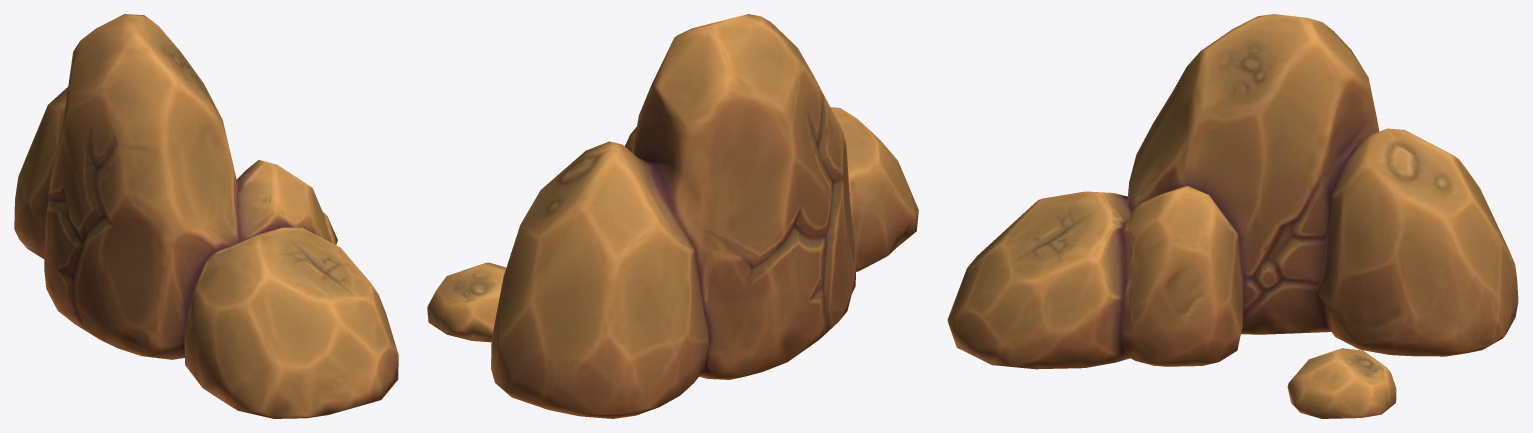
The model's file is desert-rocks.glb.
The picture shows the model from 3 angles, left to right: view 1: azimuth 30°, elevation 25°; view 2: azimuth 150°, elevation 25°; view 3: azimuth 270°, elevation 25°; orthographic projection. The views are drawn at different scales.
Parts seen in each view (by area): view 1: TCE_Rocks_v04_LP:Group11816; view 2: TCE_Rocks_v04_LP:Group11816; view 3: TCE_Rocks_v04_LP:Group11816.
Part boxes in pixels (x1=…): TCE_Rocks_v04_LP:Group11816: x1=14, y1=14, x2=398, y2=418; TCE_Rocks_v04_LP:Group11816: x1=427, y1=14, x2=918, y2=418; TCE_Rocks_v04_LP:Group11816: x1=947, y1=14, x2=1518, y2=418.
Bounding box in the file's own units: 1.25 × 1.14 × 2.
1 material, 1 textured.
